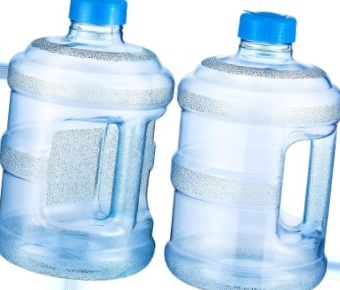plastic: (42, 39, 154, 270)
